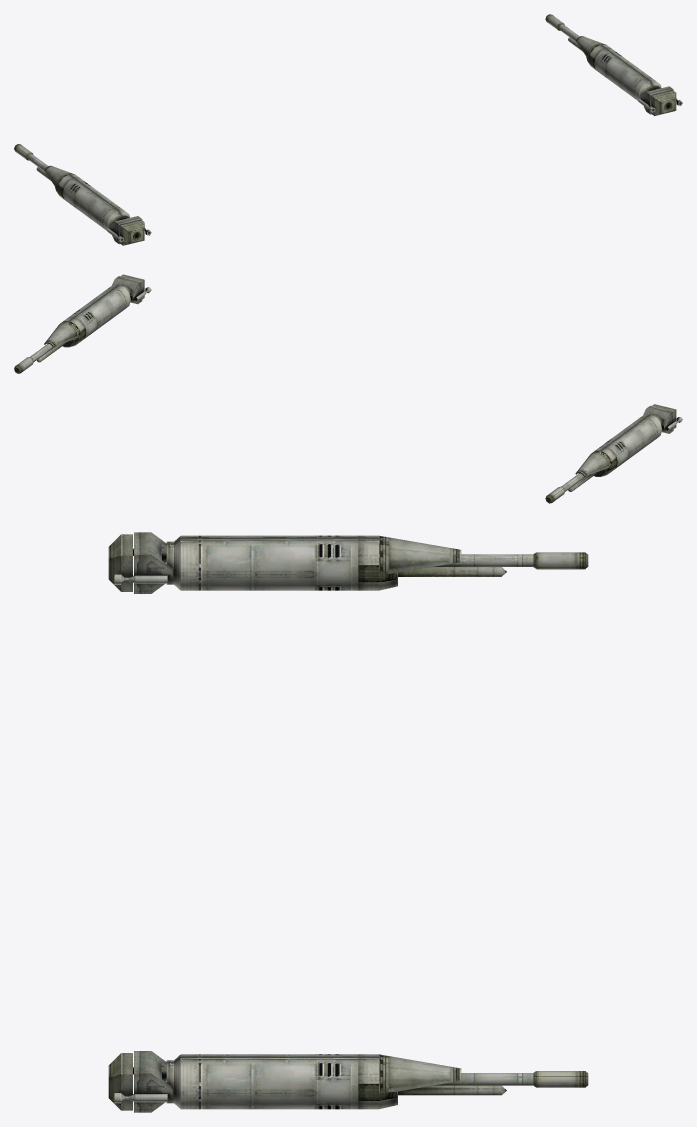
Rendered from z95_weapon_s03_l0.fbx.
3 views of the same model, one above another, from view 1: azimuth 30°, elevation 25°; view 2: azimuth 150°, elevation 25°; view 3: azimuth 270°, elevation 25° (orthographic). The views are drawn at different scales.
Parts seen in each view (by area): view 1: mesh_node; view 2: mesh_node; view 3: mesh_node.
Part boxes in pixels (left/top/right/bottom): mesh_node: left=14, top=14, right=682, bottom=245; mesh_node: left=14, top=274, right=682, bottom=503; mesh_node: left=108, top=532, right=588, bottom=1112.
Bounding box in the file's own units: 15.58 × 0.6605 × 5.74.
